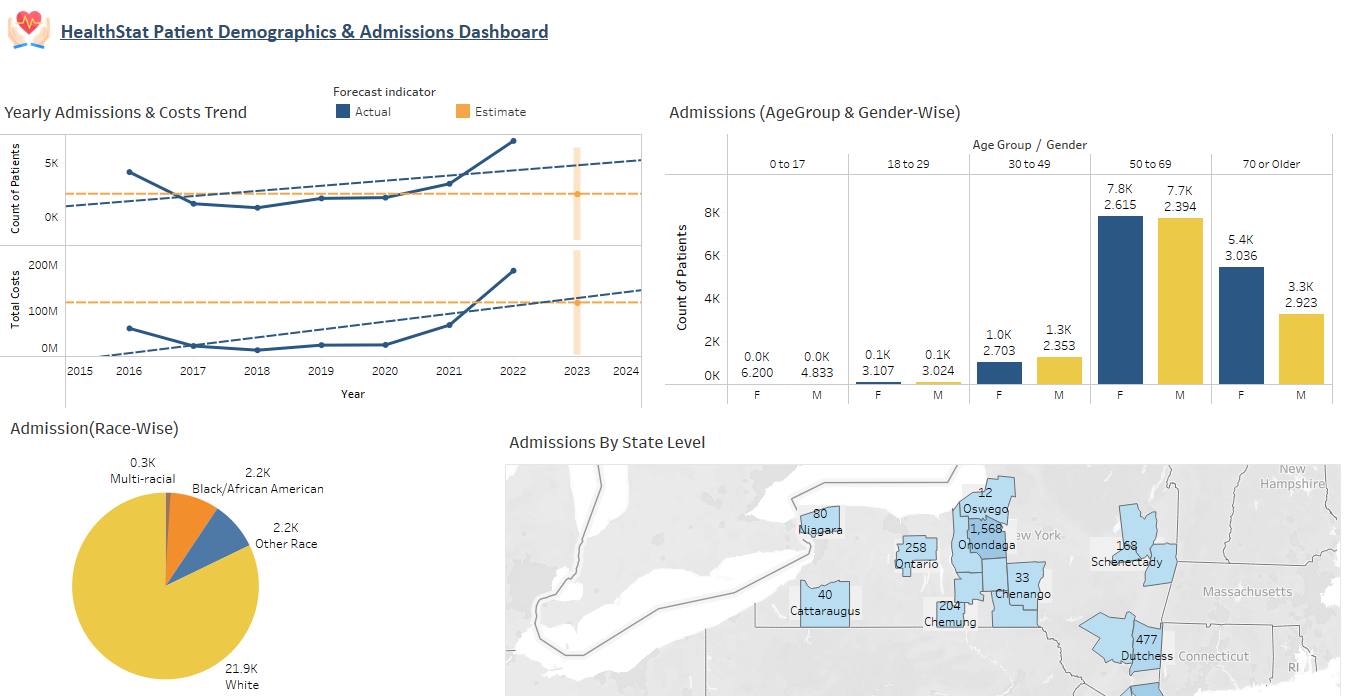

This screenshot's page, from the dashboard's own definition file:
{"tool":"tableau","page":{"name":"Patient Demographics & Admissions","canvas":[1000,1000],"units":"permille","ordinal":3},"visuals":[{"type":"image","param":"Image/health_18725220 1.png","box":[10.4,10.3,31.2,89]},{"type":"legend","title":"Yearly Admissions & Costs Trend","param":"[federated.0fe5ega1tk4a3g1f8hqim1uts35y].[none:Forecast Indicator:nk]","box":[248.8,113,243.1,80.5]},{"type":"worksheet","title":"Yearly Admissions & Costs Trend","mark":"Automatic","rows":["Sheet1_C67A10ED9EF44993A6169636F89EFF56","total_costs"],"cols":["discharge_year"],"box":[5.2,131.8,470.1,422.9]},{"type":"worksheet","title":"Admissions (AgeGroup & Gender-Wise)","mark":"Automatic","rows":["Sheet1_C67A10ED9EF44993A6169636F89EFF56"],"cols":["age_group","gender"],"box":[491.8,131.8,489.2,417.8]},{"type":"worksheet","title":"Admission(Race-Wise)","mark":"Pie","box":[9.5,559.9,355.8,431.5]},{"type":"worksheet","title":"Admissions By State Level","mark":"Automatic","box":[374.9,578.8,612.1,400.7]}]}

Visuals, with their boxes on the dashboard's canvas, which has no fixed pixel size, in thousandths of its width and height (x1, y1, x2, y2). These are canvas units, not pixel positions in the 1353x696 screenshot, which may show the page scaled, cropped or inside an application window:
image: <region>10, 10, 42, 99</region>
"Yearly Admissions & Costs Trend" legend: <region>249, 113, 492, 194</region>
"Yearly Admissions & Costs Trend" worksheet: <region>5, 132, 475, 555</region>
"Admissions (AgeGroup & Gender-Wise)" worksheet: <region>492, 132, 981, 550</region>
"Admission(Race-Wise)" worksheet (Pie marks): <region>10, 560, 365, 991</region>
"Admissions By State Level" worksheet: <region>375, 579, 987, 980</region>
